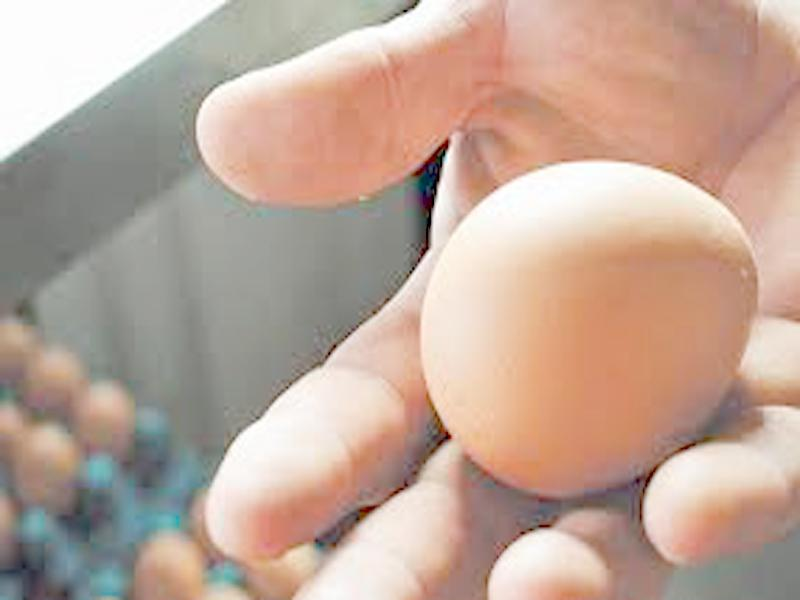Eggs: (418, 163, 764, 502)
